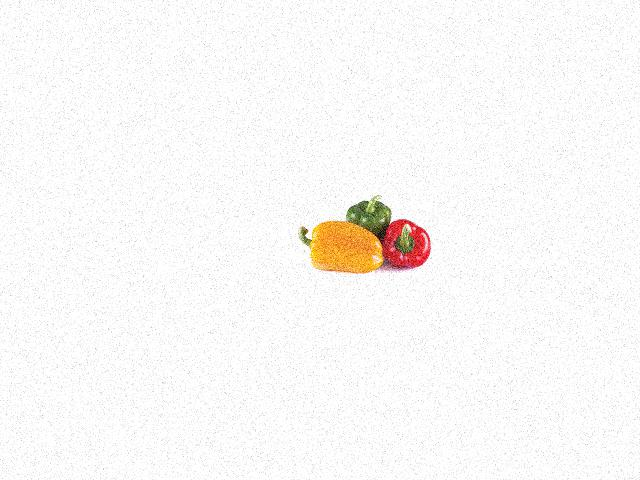bell_pepper: (341, 194, 395, 241)
